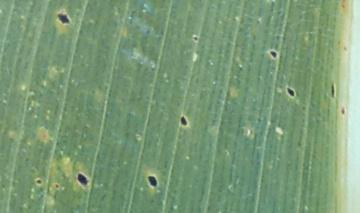tarspot: (76, 172, 88, 185), (57, 13, 70, 24), (147, 175, 158, 187), (284, 86, 295, 98), (329, 82, 336, 99), (179, 115, 188, 127), (34, 178, 43, 185), (270, 50, 277, 59), (192, 35, 199, 42), (54, 183, 60, 189), (341, 108, 346, 115)
